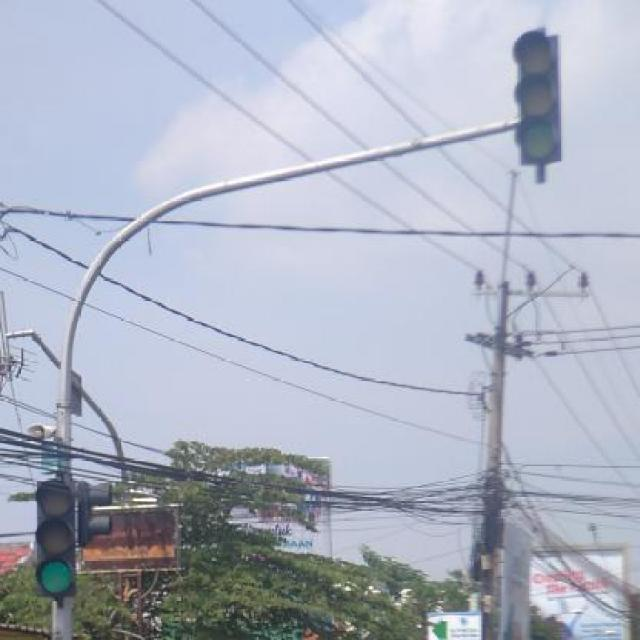traffic light: (519, 34, 560, 165), (34, 477, 74, 600)
